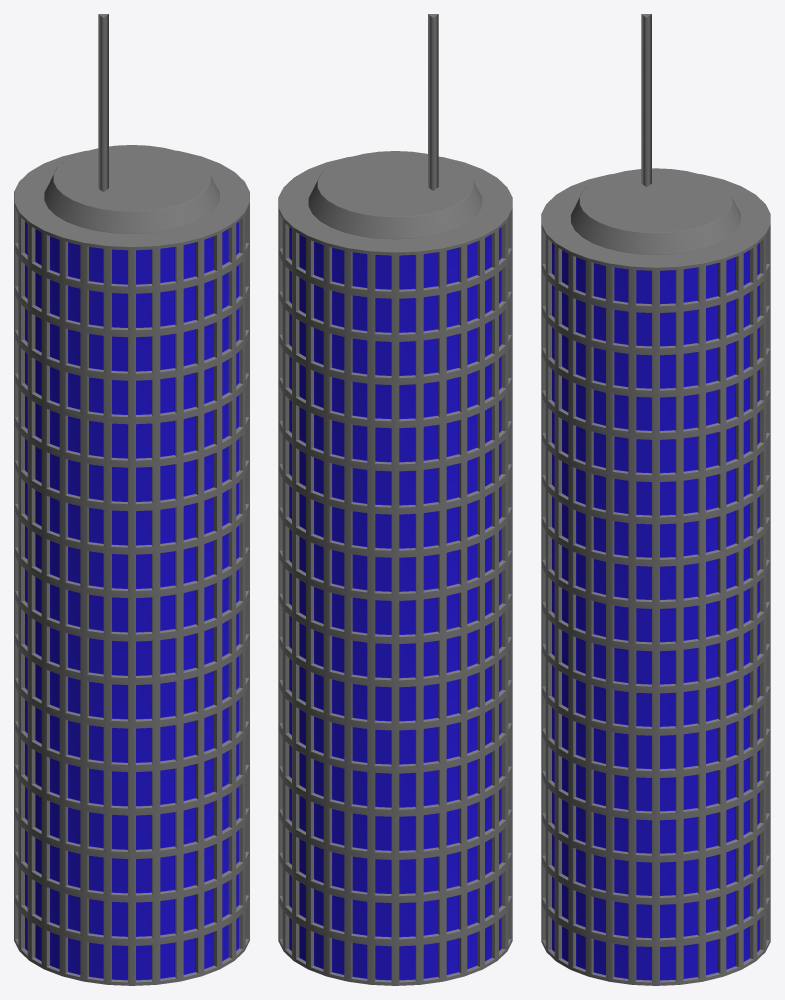
File: SM_Building03.fbx
The picture shows the model from 3 angles, left to right: view 1: azimuth 30°, elevation 25°; view 2: azimuth 150°, elevation 25°; view 3: azimuth 270°, elevation 25°; orthographic projection. The views are drawn at different scales.
Visible parts, largest first — view 1: SM_Building03; view 2: SM_Building03; view 3: SM_Building03.
Boxes of the visible parts, x1,y1,x2,y2 form: SM_Building03: (14, 14, 249, 985); SM_Building03: (278, 14, 512, 985); SM_Building03: (541, 14, 770, 985).
Bounding box in the file's own units: 712 × 3090 × 708.
